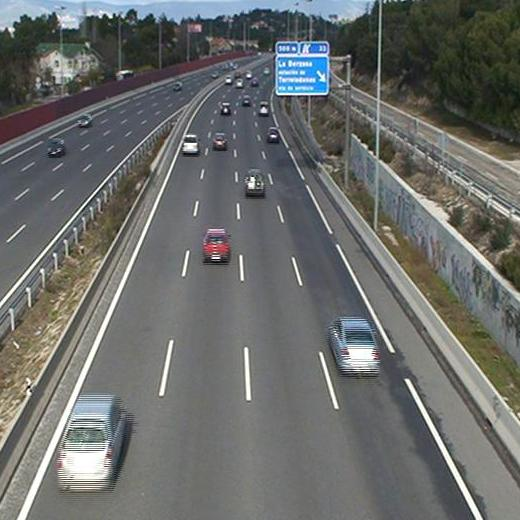car: (54, 393, 124, 491), (331, 317, 379, 374), (203, 228, 229, 261), (246, 168, 266, 193), (182, 133, 200, 154), (213, 132, 229, 150), (265, 127, 279, 141), (219, 102, 232, 115)
